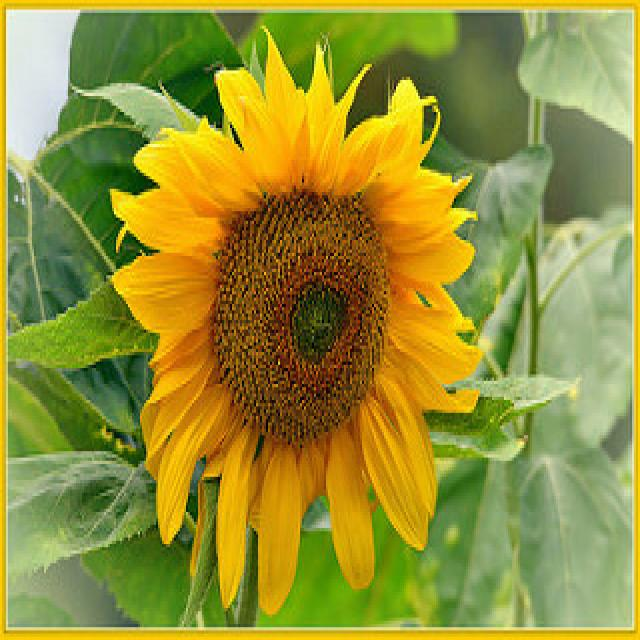sunflower: (103, 18, 483, 616)
